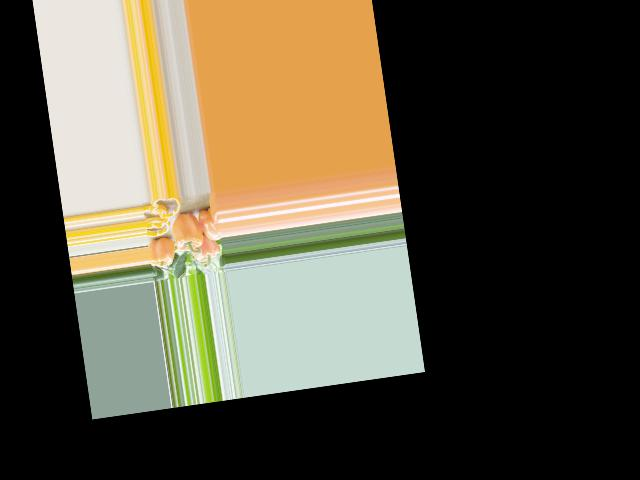bell_pepper: (197, 206, 221, 243)
